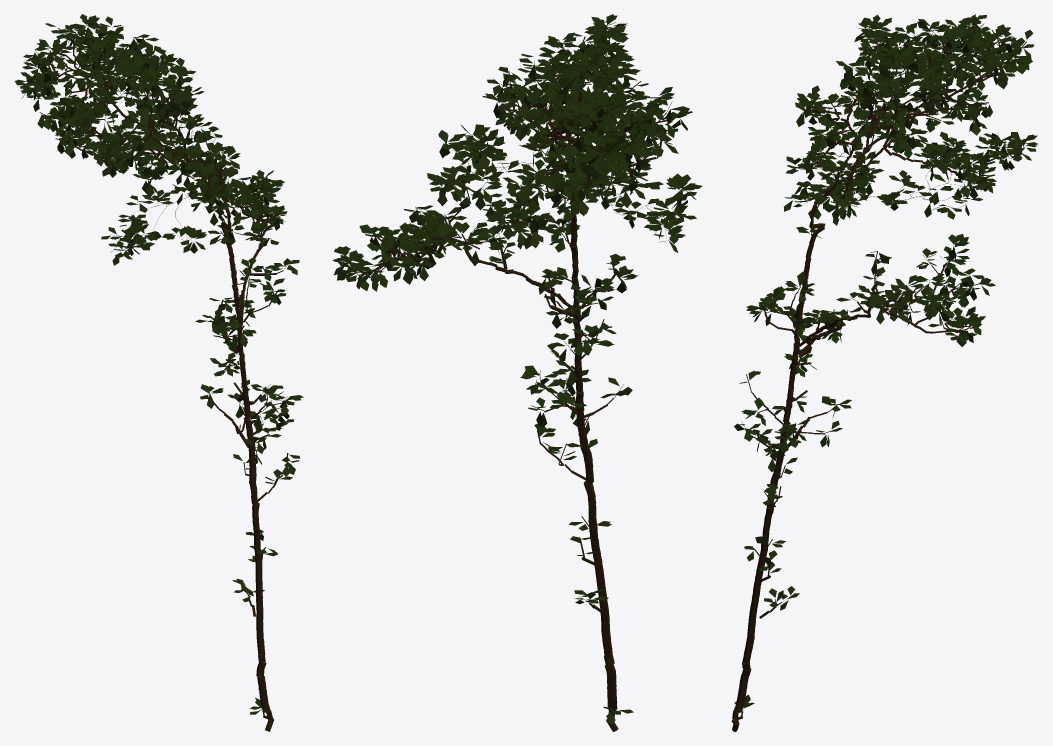
Rendered from tree_239.obj.
3 views of the same model, side by side, from view 1: azimuth 30°, elevation 25°; view 2: azimuth 150°, elevation 25°; view 3: azimuth 270°, elevation 25° (orthographic). The views are drawn at different scales.
Parts seen in each view (by area): view 1: Leaves, TrunkAndBranches; view 2: Leaves, TrunkAndBranches; view 3: Leaves, TrunkAndBranches.
Part boxes in pixels (x1=…): Leaves: x1=14, y1=14, x2=303, y2=714; TrunkAndBranches: x1=30, y1=25, x2=288, y2=731; Leaves: x1=332, y1=14, x2=702, y2=724; TrunkAndBranches: x1=344, y1=23, x2=683, y2=731; Leaves: x1=734, y1=14, x2=1037, y2=707; TrunkAndBranches: x1=731, y1=14, x2=1026, y2=731.
Size of the model in its own units: 5.95 by 14.17 by 5.79.
